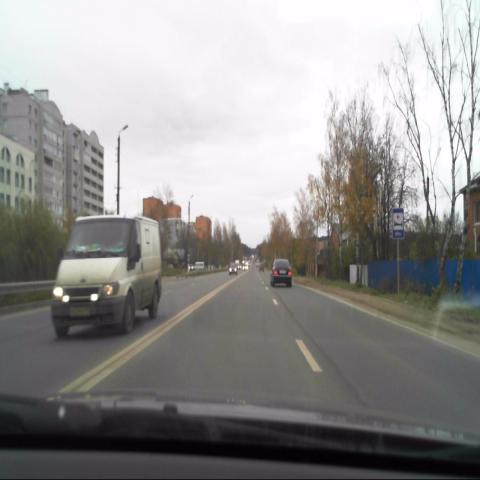7_2: (392, 208, 404, 240)
